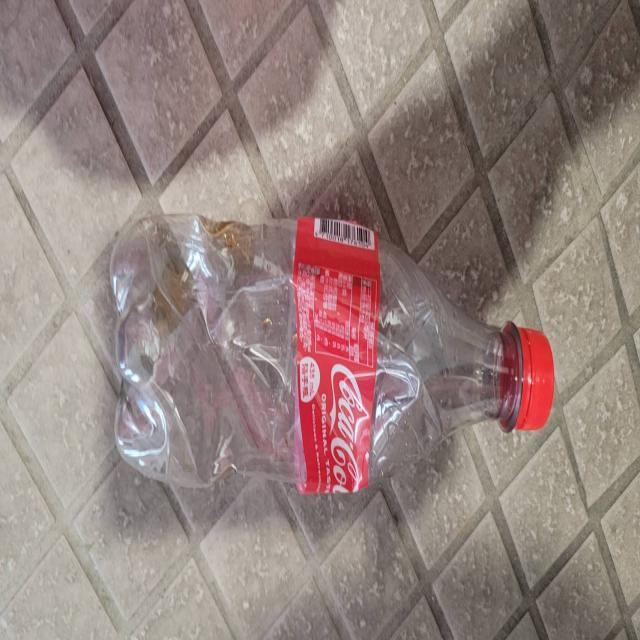PET bottle: (107, 200, 555, 505)
